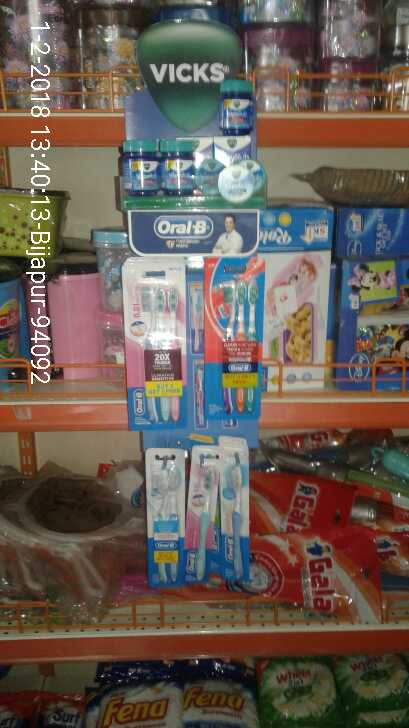pharmacy: (199, 251, 266, 418), (129, 247, 188, 432), (143, 443, 186, 591), (215, 432, 252, 593), (184, 448, 220, 586), (124, 129, 196, 196), (221, 84, 256, 139)
